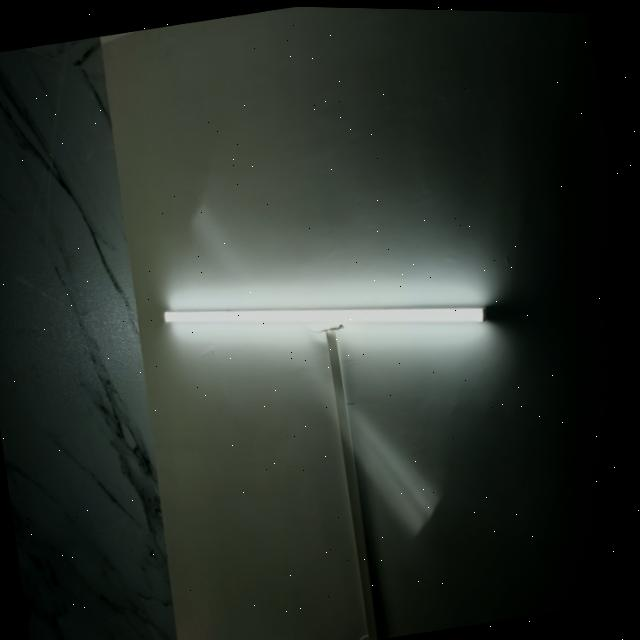light_on: (151, 240, 504, 384)
